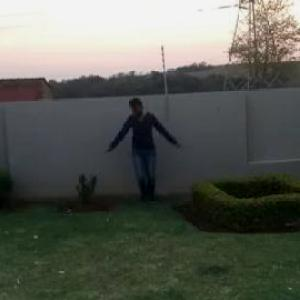land: (100, 89, 187, 210)
